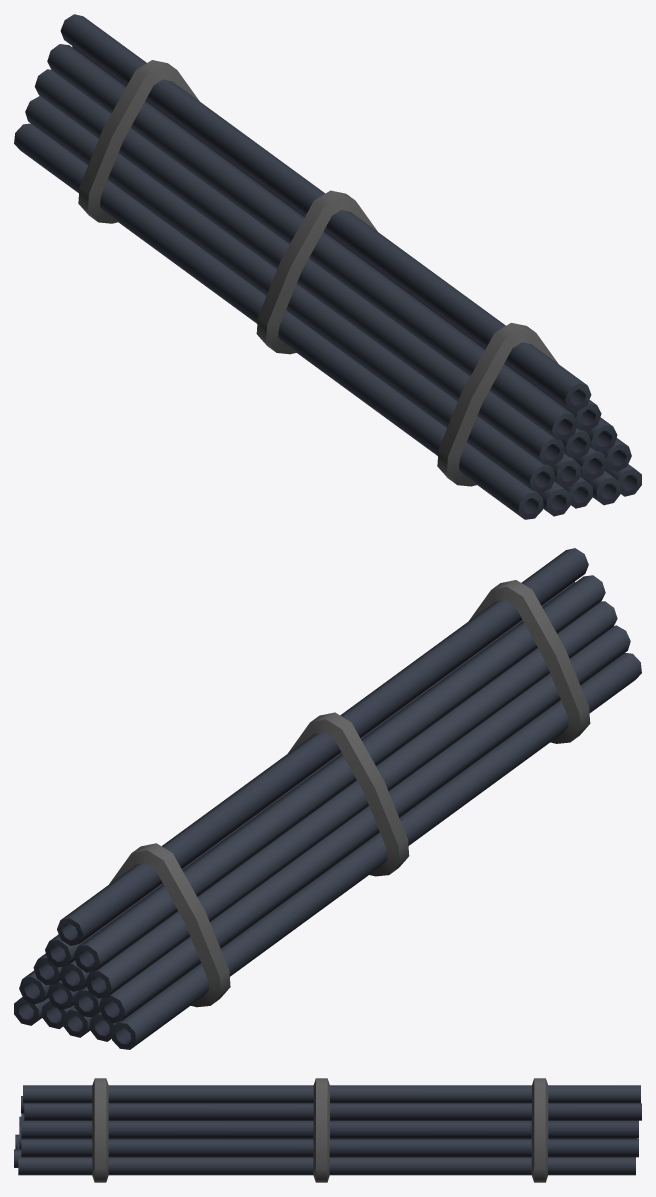
Rendered from Pipes_C_3_3.fbx.
3 views of the same model, one above another, from view 1: azimuth 30°, elevation 25°; view 2: azimuth 150°, elevation 25°; view 3: azimuth 270°, elevation 25° (orthographic). The views are drawn at different scales.
Parts seen in each view (by area): view 1: Pipes_C_3_3; view 2: Pipes_C_3_3; view 3: Pipes_C_3_3.
Part boxes in pixels (x1=…): Pipes_C_3_3: x1=14, y1=14, x2=641, y2=519; Pipes_C_3_3: x1=14, y1=548, x2=641, y2=1049; Pipes_C_3_3: x1=14, y1=1078, x2=641, y2=1182.
Bounding box in the file's own units: 90.26 × 87.4 × 560.
